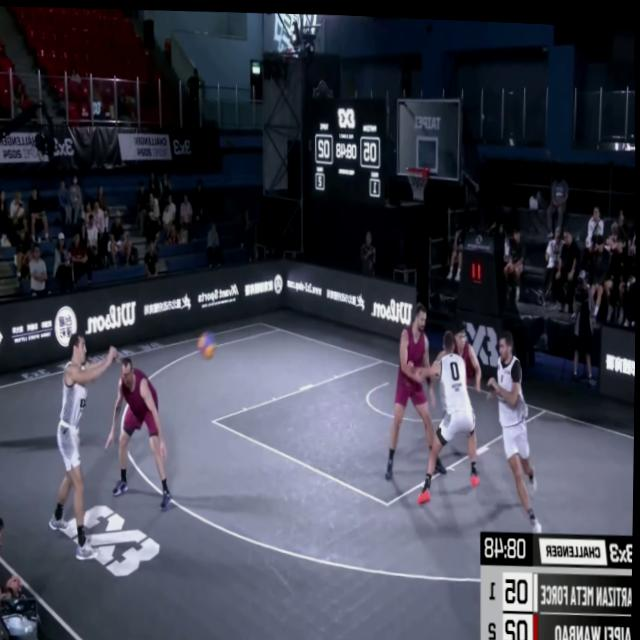ball: (199, 329, 218, 357)
hoop: (406, 162, 431, 199)
player: (49, 332, 125, 559), (415, 327, 484, 502), (486, 322, 544, 524), (384, 295, 444, 477), (108, 353, 174, 513), (452, 315, 483, 386)
